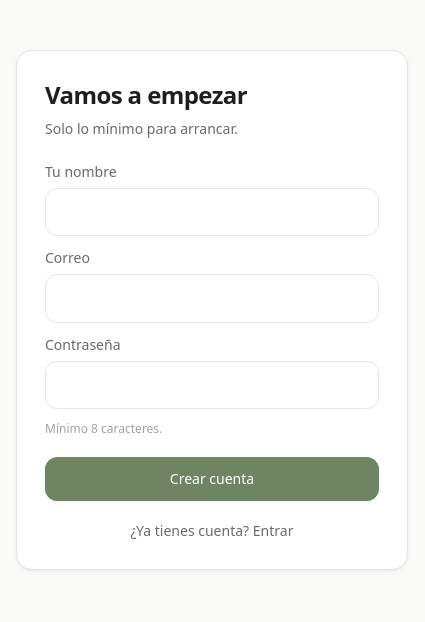
sign-up form › shows a Spanish message for an invalid email, with native validation off
The width and height of the screenshot is (425, 622).
Type "Ana" into the field labelled "Tu nombre" at (212, 212), box [45,188,379,236]
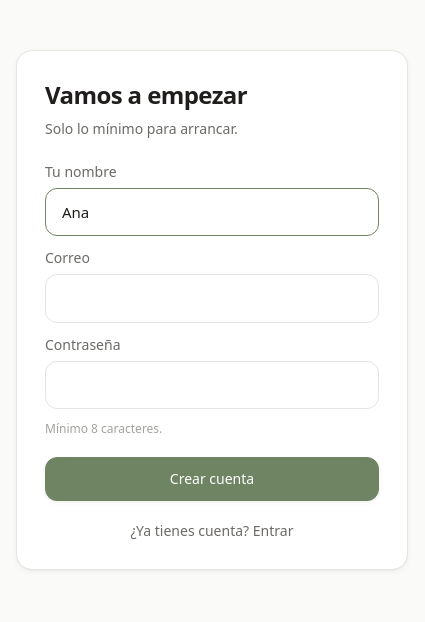
Type "no-es-correo" into the field labelled "Correo" at (212, 299), box [45,274,379,323]
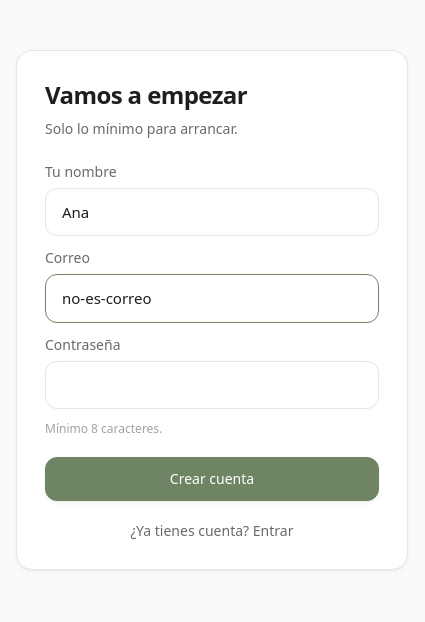
Type "larga-de-verdad" into the password field labelled "Contraseña" at (212, 385), box [45,361,379,409]
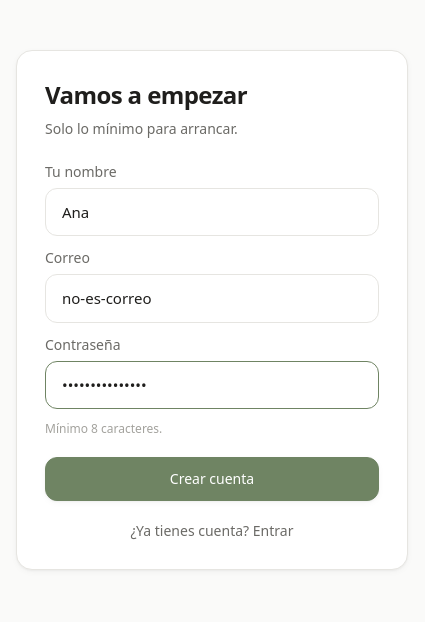
Click the button "Crear cuenta" at (212, 479), box [45,457,379,501]
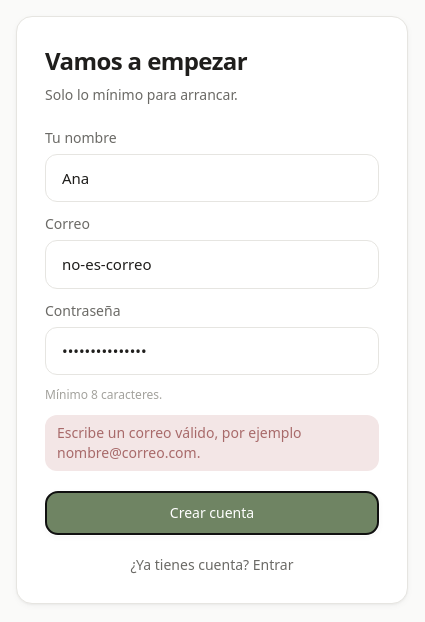
Now the text "Escribe un correo válido, por ejemplo nombre@correo.com." is shown, box [45,415,379,471]
